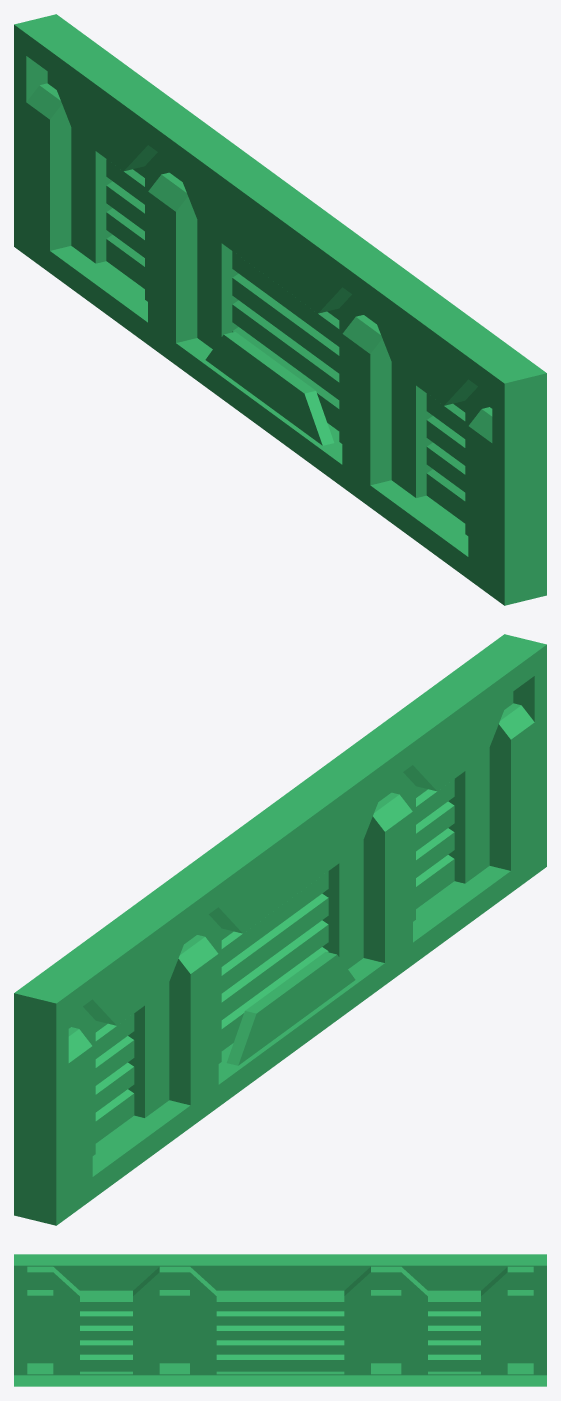
The model's file is Wall_B_1x4m.FBX.
3 renders of one model, top to bottom at view 1: azimuth 30°, elevation 25°; view 2: azimuth 150°, elevation 25°; view 3: azimuth 270°, elevation 25°, orthographic. The views are drawn at different scales.
Visible parts, largest first — view 1: Wall_B_1x4m; view 2: Wall_B_1x4m; view 3: Wall_B_1x4m.
Part boxes in pixels (x1,y1,x2,y2): Wall_B_1x4m: (14,14,546,605); Wall_B_1x4m: (14,634,546,1225); Wall_B_1x4m: (14,1254,546,1386).
Bounding box in the file's own units: 20 × 100 × 400.
